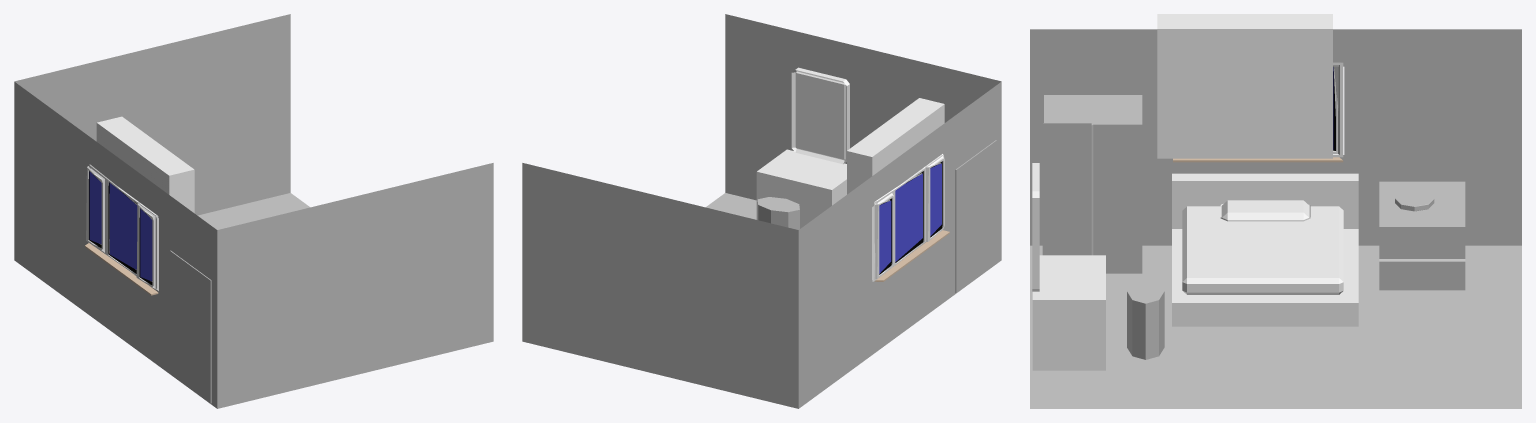
Rendered from bedroom_design.obj.
The picture shows the model from 3 angles, left to right: view 1: azimuth 30°, elevation 25°; view 2: azimuth 150°, elevation 25°; view 3: azimuth 270°, elevation 25°; orthographic projection. The views are drawn at different scales.
Parts seen in each view (by area): view 1: Cube, Window, Cylinder, CTRL_Hole; view 2: Cube, Window, Cylinder, CTRL_Hole; view 3: Cube, Window, Cylinder, CTRL_Hole, Cylinder.001.
Boxes of the visible parts, <box> form: Cube: <box>14,14,493,408</box>; Window: <box>85,164,158,295</box>; Cylinder: <box>101,239,211,403</box>; CTRL_Hole: <box>96,116,194,238</box>; Cube: <box>522,14,1001,408</box>; Window: <box>756,67,949,281</box>; Cylinder: <box>757,140,996,292</box>; CTRL_Hole: <box>847,98,944,202</box>; Cube: <box>1030,29,1521,408</box>; Window: <box>1032,62,1358,370</box>; Cylinder: <box>1042,95,1465,359</box>; CTRL_Hole: <box>1157,14,1332,158</box>; Cylinder.001: <box>1395,190,1434,211</box>.
Bounding box in the file's own units: 5.64 × 3.7 × 7.
